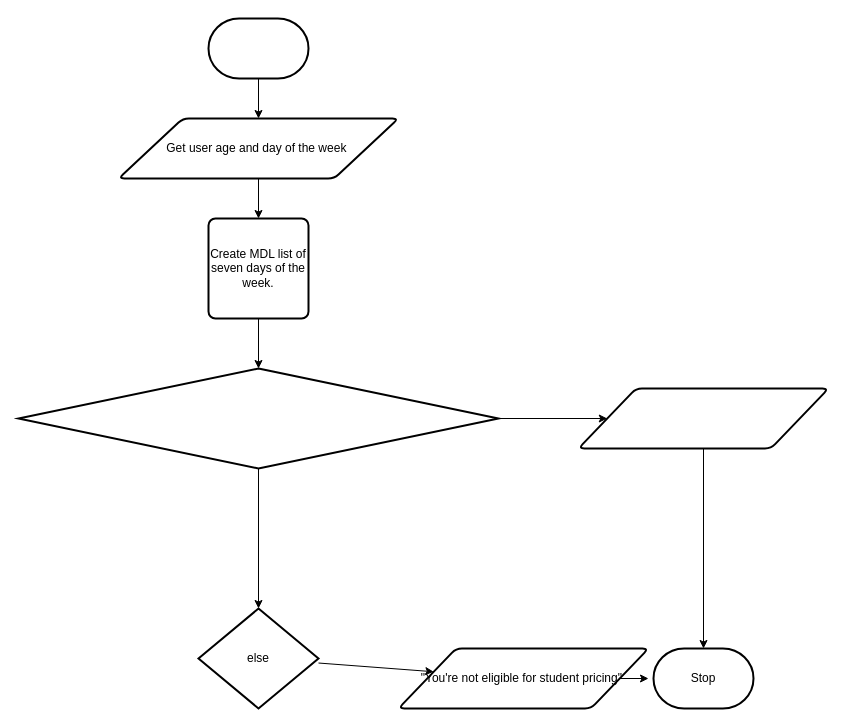
This 846x726 diagram has some shape labels left out. Each missing label, with the centre of its shape:
"You're eligible for student pricing": the point at 703,418
if ( (day == "Tuesday" || day == "Thursday") || (age > 12 && age < 21) ): the point at 258,418
Start: the point at 258,48
